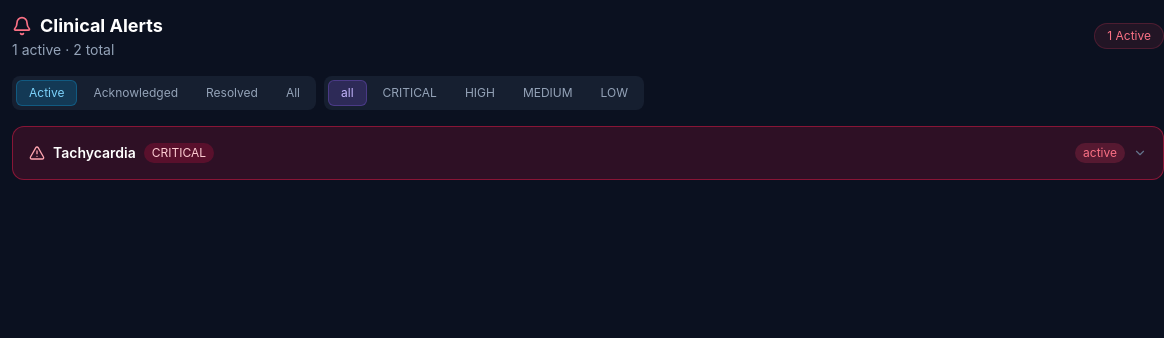
Scenario: AlertPanel Component › expands alert detail and triggers acknowledge workflow
Later steps or results of the test are not shown.
Click the text "Tachycardia" at [94, 152], box [29,143,1147,163]
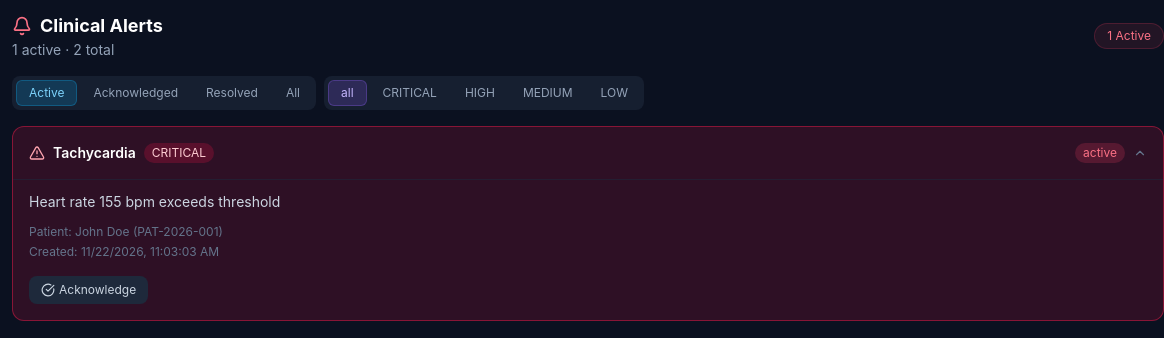
Expected: the text "Heart rate 155 bpm exceeds threshold" is shown, [29,193,280,210]
